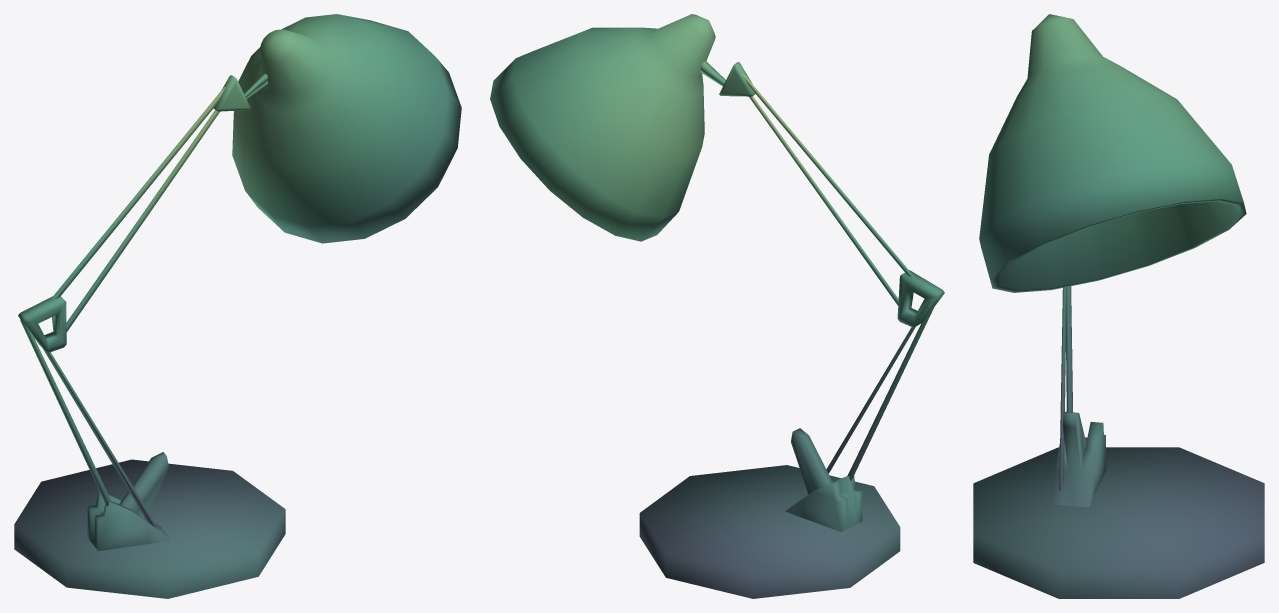
Rendered from mesh_lamp_LOD1.fbx.
The picture shows the model from 3 angles, left to right: view 1: azimuth 30°, elevation 25°; view 2: azimuth 150°, elevation 25°; view 3: azimuth 270°, elevation 25°; orthographic projection. The views are drawn at different scales.
Parts seen in each view (by area): view 1: Lamp_LOD1; view 2: Lamp_LOD1; view 3: Lamp_LOD1.
Part boxes in pixels (left/top/right/bottom): Lamp_LOD1: left=14, top=14, right=461, bottom=598; Lamp_LOD1: left=490, top=14, right=944, bottom=598; Lamp_LOD1: left=973, top=14, right=1264, bottom=598.
Bounding box in the file's own units: 78.95 × 86.47 × 39.41.
